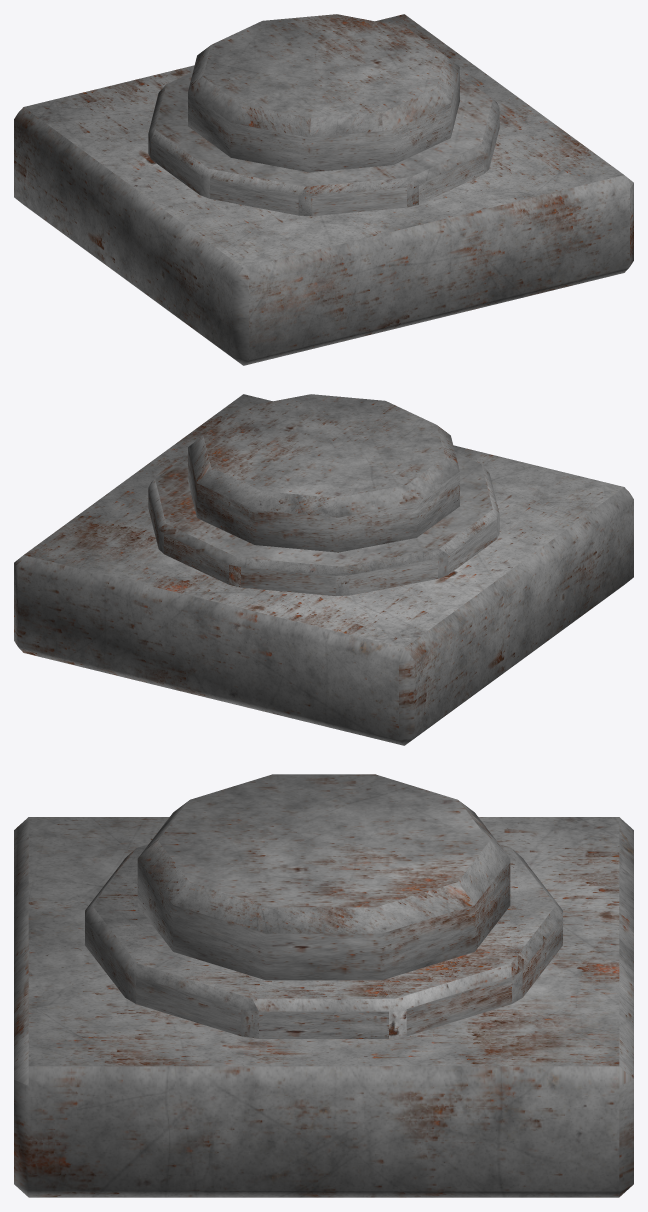
Rendered from ボタン.fbx.
The picture shows the model from 3 angles, top to bottom: view 1: azimuth 30°, elevation 25°; view 2: azimuth 150°, elevation 25°; view 3: azimuth 270°, elevation 25°; orthographic projection. The views are drawn at different scales.
Visible parts, largest first — view 1: 立方体, 円柱.001, 円柱; view 2: 立方体, 円柱.001, 円柱; view 3: 立方体, 円柱.001, 円柱.
Boxes of the visible parts, bbox=[...] form: 立方体: bbox=[14, 14, 633, 365]; 円柱.001: bbox=[188, 14, 459, 172]; 円柱: bbox=[148, 72, 499, 216]; 立方体: bbox=[14, 394, 633, 745]; 円柱.001: bbox=[188, 394, 459, 552]; 円柱: bbox=[148, 452, 499, 596]; 立方体: bbox=[14, 817, 633, 1197]; 円柱.001: bbox=[137, 774, 510, 980]; 円柱: bbox=[85, 844, 562, 1038].
Bounding box in the file's own units: 200 × 82.59 × 200.
